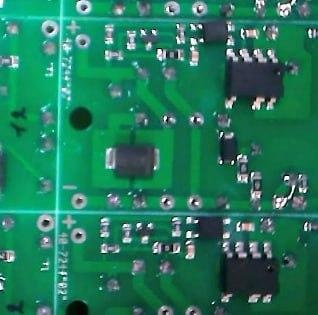chip-capacitor: (235, 220, 256, 233), (240, 27, 260, 40), (184, 240, 196, 261), (189, 46, 199, 67)
chip-resistor: (156, 47, 186, 63), (250, 170, 264, 200), (152, 241, 181, 255), (236, 154, 249, 185), (0, 54, 21, 69), (99, 216, 112, 239), (175, 22, 187, 45), (297, 172, 309, 194), (170, 216, 182, 238), (0, 248, 16, 264), (126, 28, 137, 51), (104, 49, 125, 61), (100, 242, 121, 254), (121, 223, 133, 244), (104, 23, 114, 44)
diode: (105, 143, 161, 178), (218, 129, 237, 166)
ic: (218, 239, 279, 306), (224, 46, 284, 112), (189, 21, 236, 47), (184, 215, 232, 240)
transistor: (138, 27, 159, 52), (135, 221, 154, 245)
